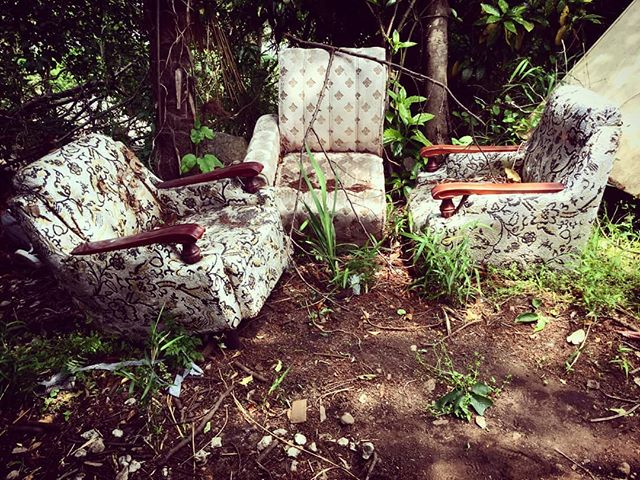chair: (18, 139, 286, 332), (379, 90, 623, 287), (231, 45, 389, 241)
